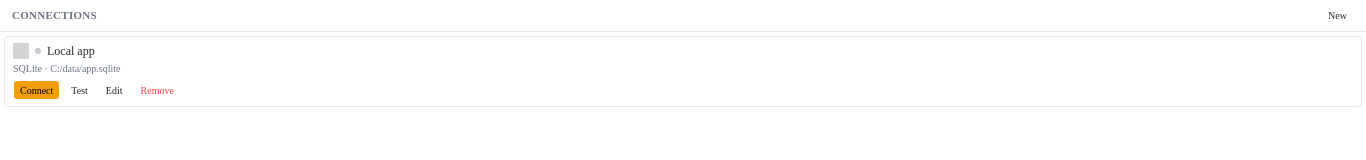
Scenario: ConnectionManager › removes a profile and refreshes the list
The image size is (1366, 160).
expect the text "Local app" is shown: met, box x1=47 y1=44 x2=95 y2=58
Click the button with aria-label "Remove Local app" at (157, 90), box x1=134 y1=80 x2=181 y2=100
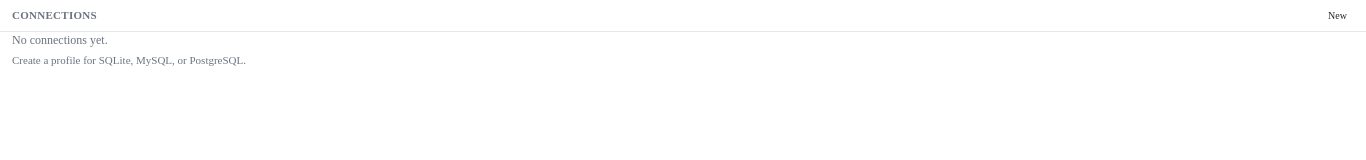
expect the text "No connections yet." is shown: met, box x1=12 y1=33 x2=108 y2=47
